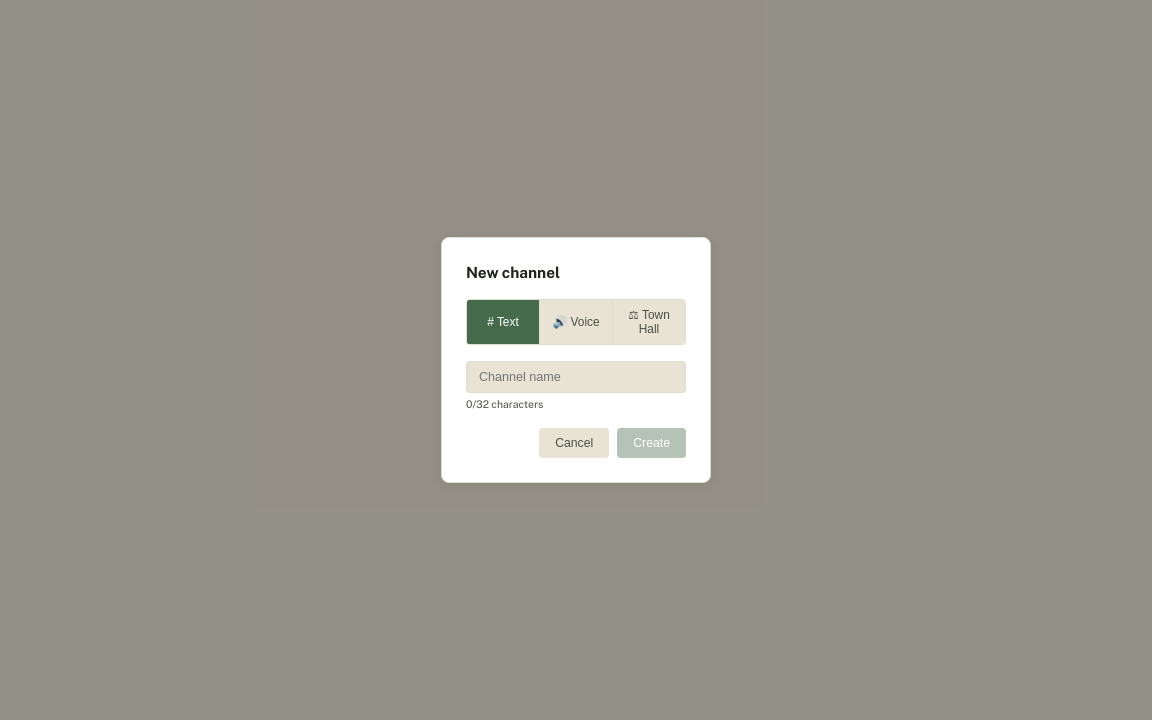
Test: CreateChannelDialog › shows inline error when createChannel rejects
Type "whatever" into the field with placeholder "Channel name".
click(576, 377); type("whatever")  # box [466,361,686,393]
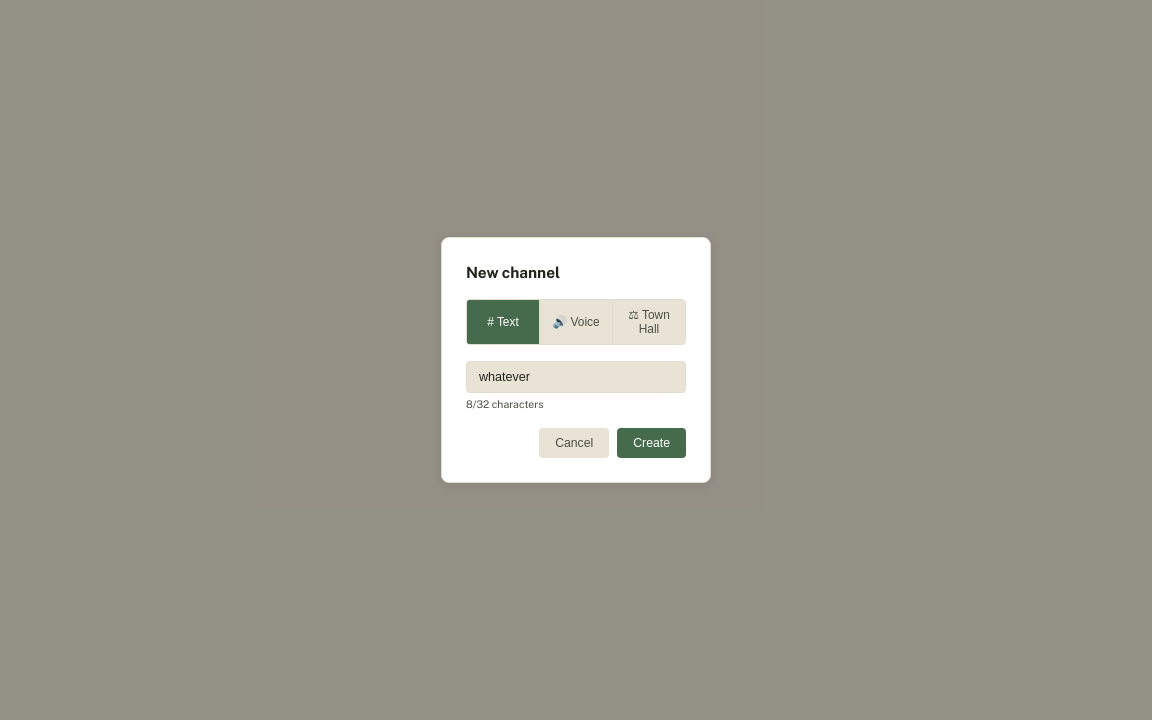
Click the button "Create".
click(652, 443)  # box [617,428,686,458]
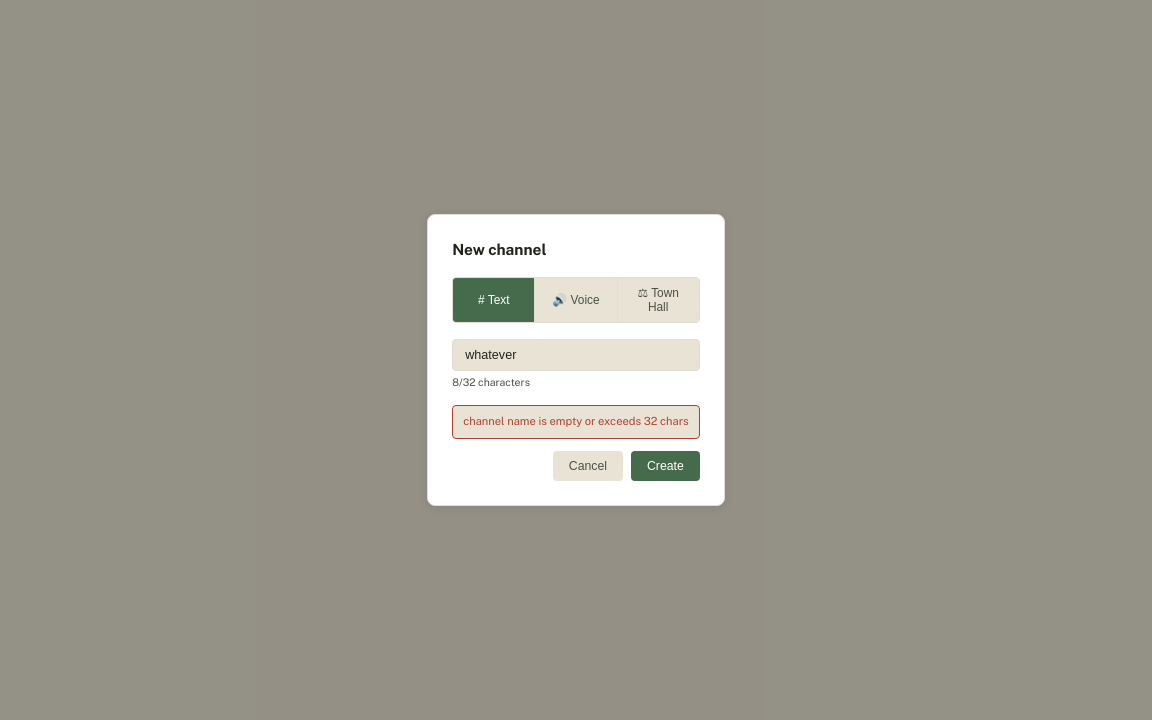
Check: the text "channel name is empty or exceeds 32 chars" is shown, box [452,405,700,439]
